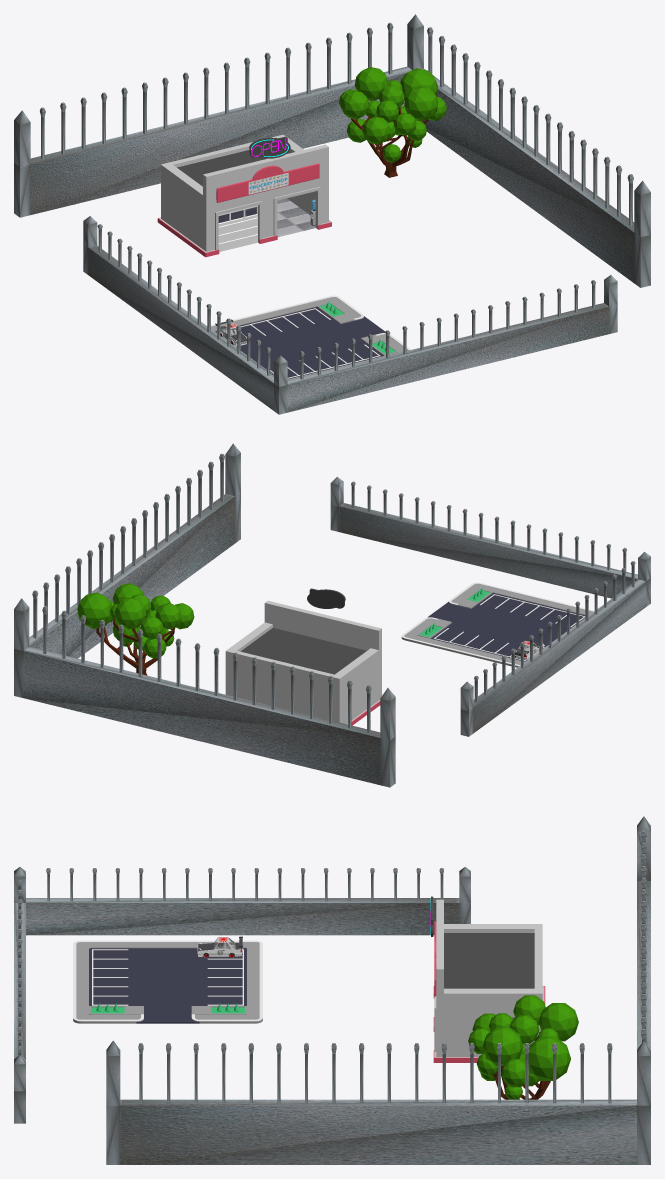
File: shop.glb
3 renders of one model, top to bottom at view 1: azimuth 30°, elevation 25°; view 2: azimuth 150°, elevation 25°; view 3: azimuth 270°, elevation 25°, orthographic. The views are drawn at different scales.
Visible parts, largest first — view 1: Fence (×2), Main building, tree crown, Road, Sign, Garage door, Footpath, Roof, Lines, Plane, trunk and branches, background; view 2: Fence (×2), Main building, Road, tree crown, Roof, Footpath, Lines, trunk and branches, background; view 3: Fence (×2), Road, tree crown, Main building, Roof, Footpath, Lines, Concretes, Car frame.
Part boxes in pixels (bbox=[...]): Fence (×2): bbox=[14, 14, 650, 414]; Main building: bbox=[159, 134, 330, 252]; tree crown: bbox=[339, 67, 446, 162]; Road: bbox=[215, 307, 385, 379]; Sign: bbox=[216, 163, 319, 202]; Garage door: bbox=[218, 205, 257, 251]; Footpath: bbox=[211, 297, 408, 379]; Roof: bbox=[177, 150, 291, 186]; Lines: bbox=[211, 295, 411, 378]; Plane: bbox=[277, 198, 315, 237]; trunk and branches: bbox=[351, 107, 428, 177]; background: bbox=[249, 136, 290, 158]; Fence (×2): bbox=[14, 443, 650, 787]; Main building: bbox=[225, 600, 381, 724]; Road: bbox=[427, 593, 585, 661]; tree crown: bbox=[77, 583, 194, 658]; Roof: bbox=[241, 628, 366, 674]; Footpath: bbox=[401, 584, 592, 667]; Lines: bbox=[401, 582, 594, 666]; trunk and branches: bbox=[96, 619, 175, 675]; background: bbox=[307, 588, 345, 608]; Fence (×2): bbox=[14, 816, 650, 1164]; Road: bbox=[89, 948, 246, 1023]; tree crown: bbox=[468, 995, 578, 1099]; Main building: bbox=[434, 899, 544, 1057]; Roof: bbox=[444, 933, 534, 988]; Footpath: bbox=[73, 942, 262, 1023]; Lines: bbox=[73, 940, 262, 1021]; Concretes: bbox=[89, 1006, 246, 1014]; Car frame: bbox=[198, 937, 242, 956].
Bounding box in the file's own units: 6.2 × 1.52 × 7.12.
51 materials, 5 textured.
